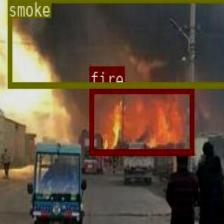fire: (89, 87, 193, 153)
smoke: (7, 0, 224, 86)
